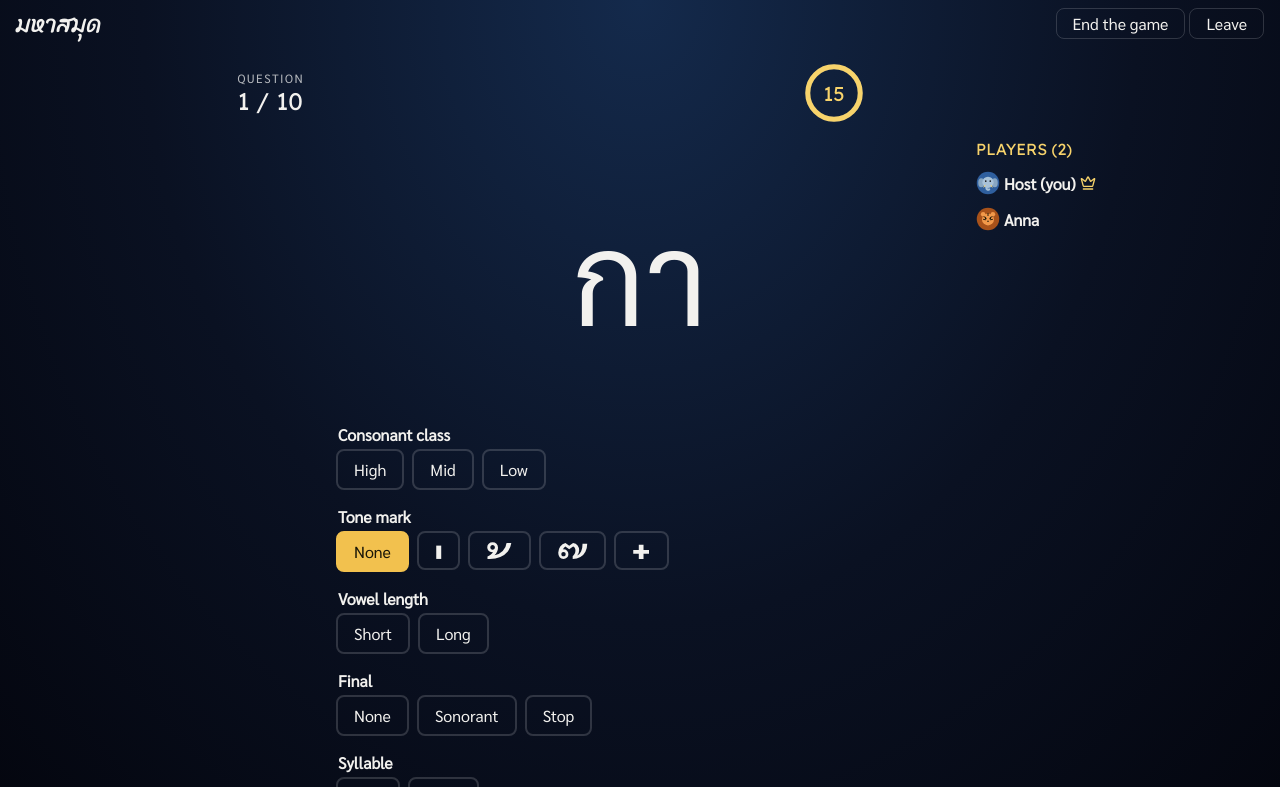
RoomPage › in the bar › tells the host leaving that another player takes over
Click the button "Leave" at (1227, 24), box [1189, 8, 1264, 39]
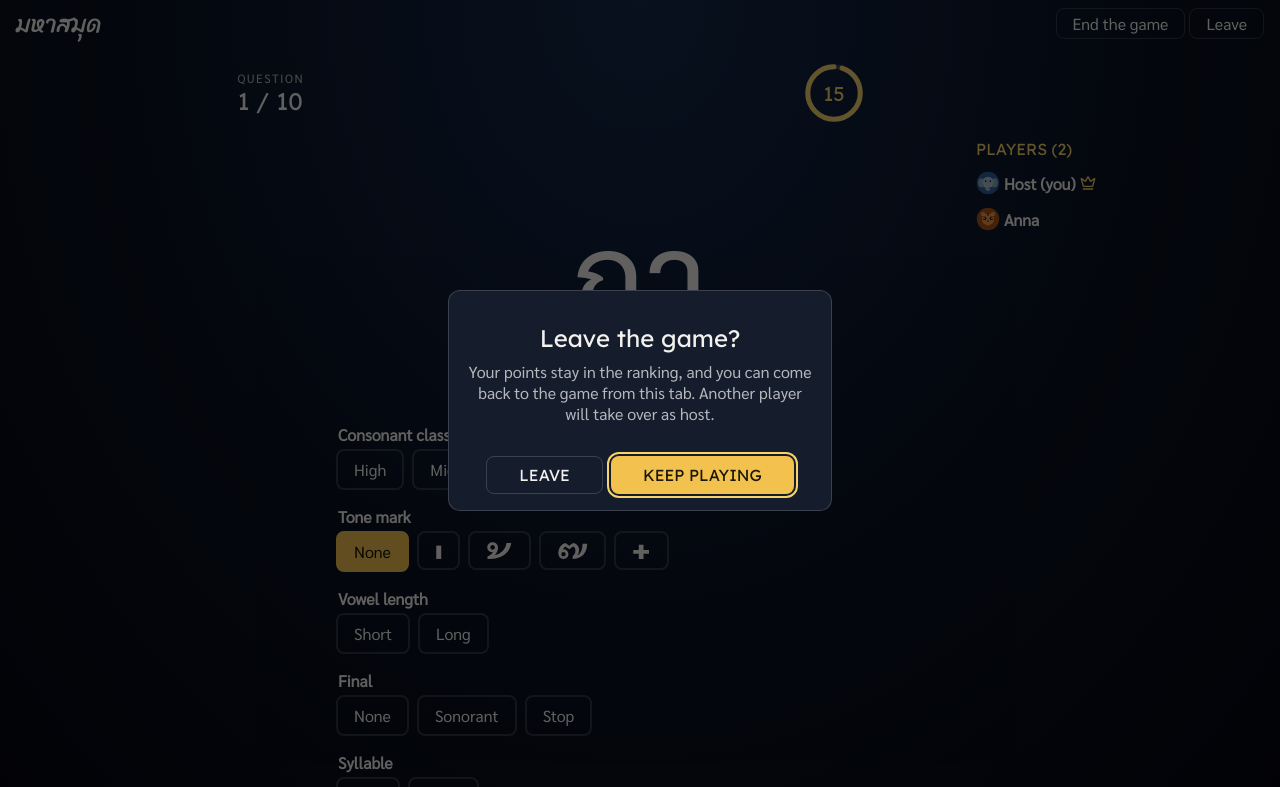
Expected: the text "Another player will take over as host" is shown, [468, 360, 812, 424]
